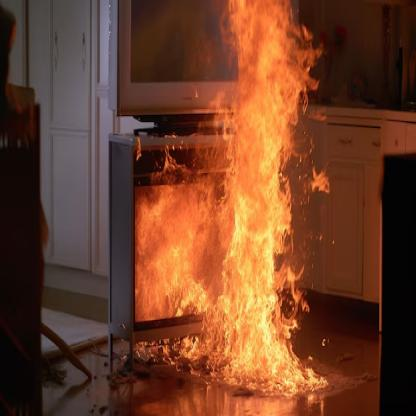fire: (132, 0, 337, 407)
